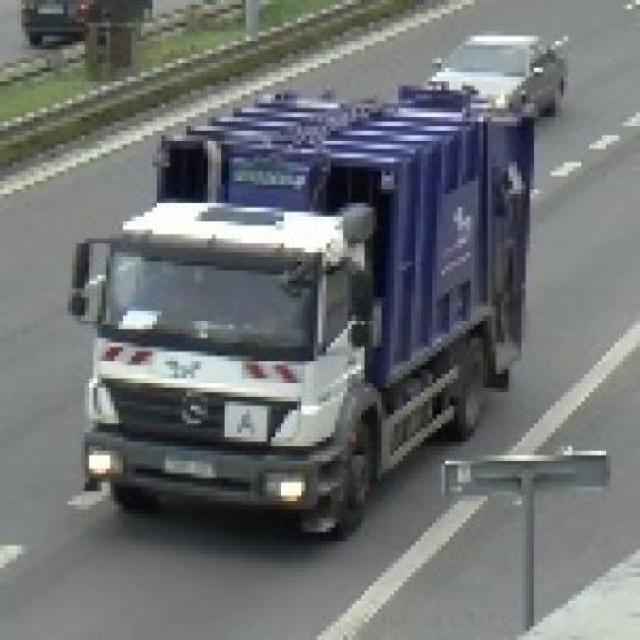truck: (64, 77, 535, 542)
